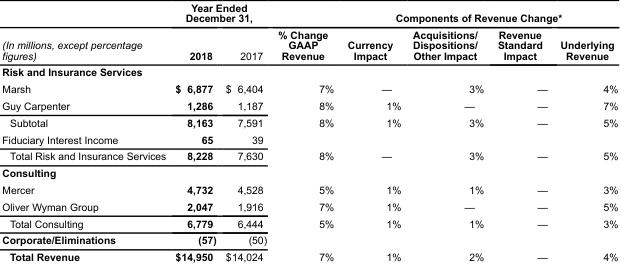table: (1, 1, 617, 262)
table column: (1, 1, 169, 262), (406, 1, 490, 262), (271, 1, 340, 262), (340, 1, 406, 262), (553, 1, 617, 262), (490, 1, 553, 262), (169, 1, 220, 262), (220, 1, 271, 262)
table column header: (1, 1, 617, 63)
table projected row header: (1, 63, 617, 80), (1, 164, 617, 180)
table row: (1, 25, 617, 63), (1, 1, 617, 25), (1, 63, 617, 80), (1, 96, 617, 113), (1, 113, 617, 130), (1, 130, 617, 147), (1, 147, 617, 164), (1, 180, 617, 197), (1, 197, 617, 214), (1, 214, 617, 231), (1, 231, 617, 248), (1, 80, 617, 96), (1, 164, 617, 180), (1, 248, 617, 262)
table spanning cell: (1, 1, 169, 63), (340, 1, 617, 25), (271, 1, 340, 63), (169, 1, 271, 25)
